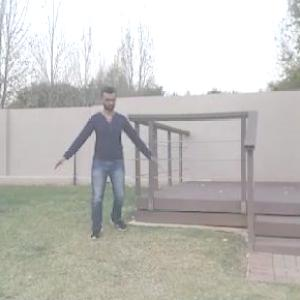land: (58, 78, 161, 256)
